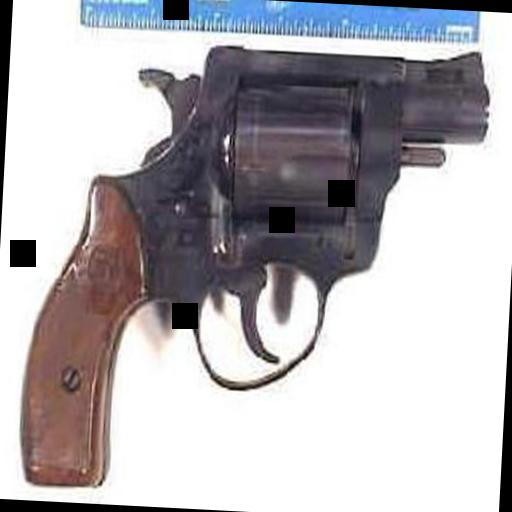Handgun: (9, 23, 489, 506)
